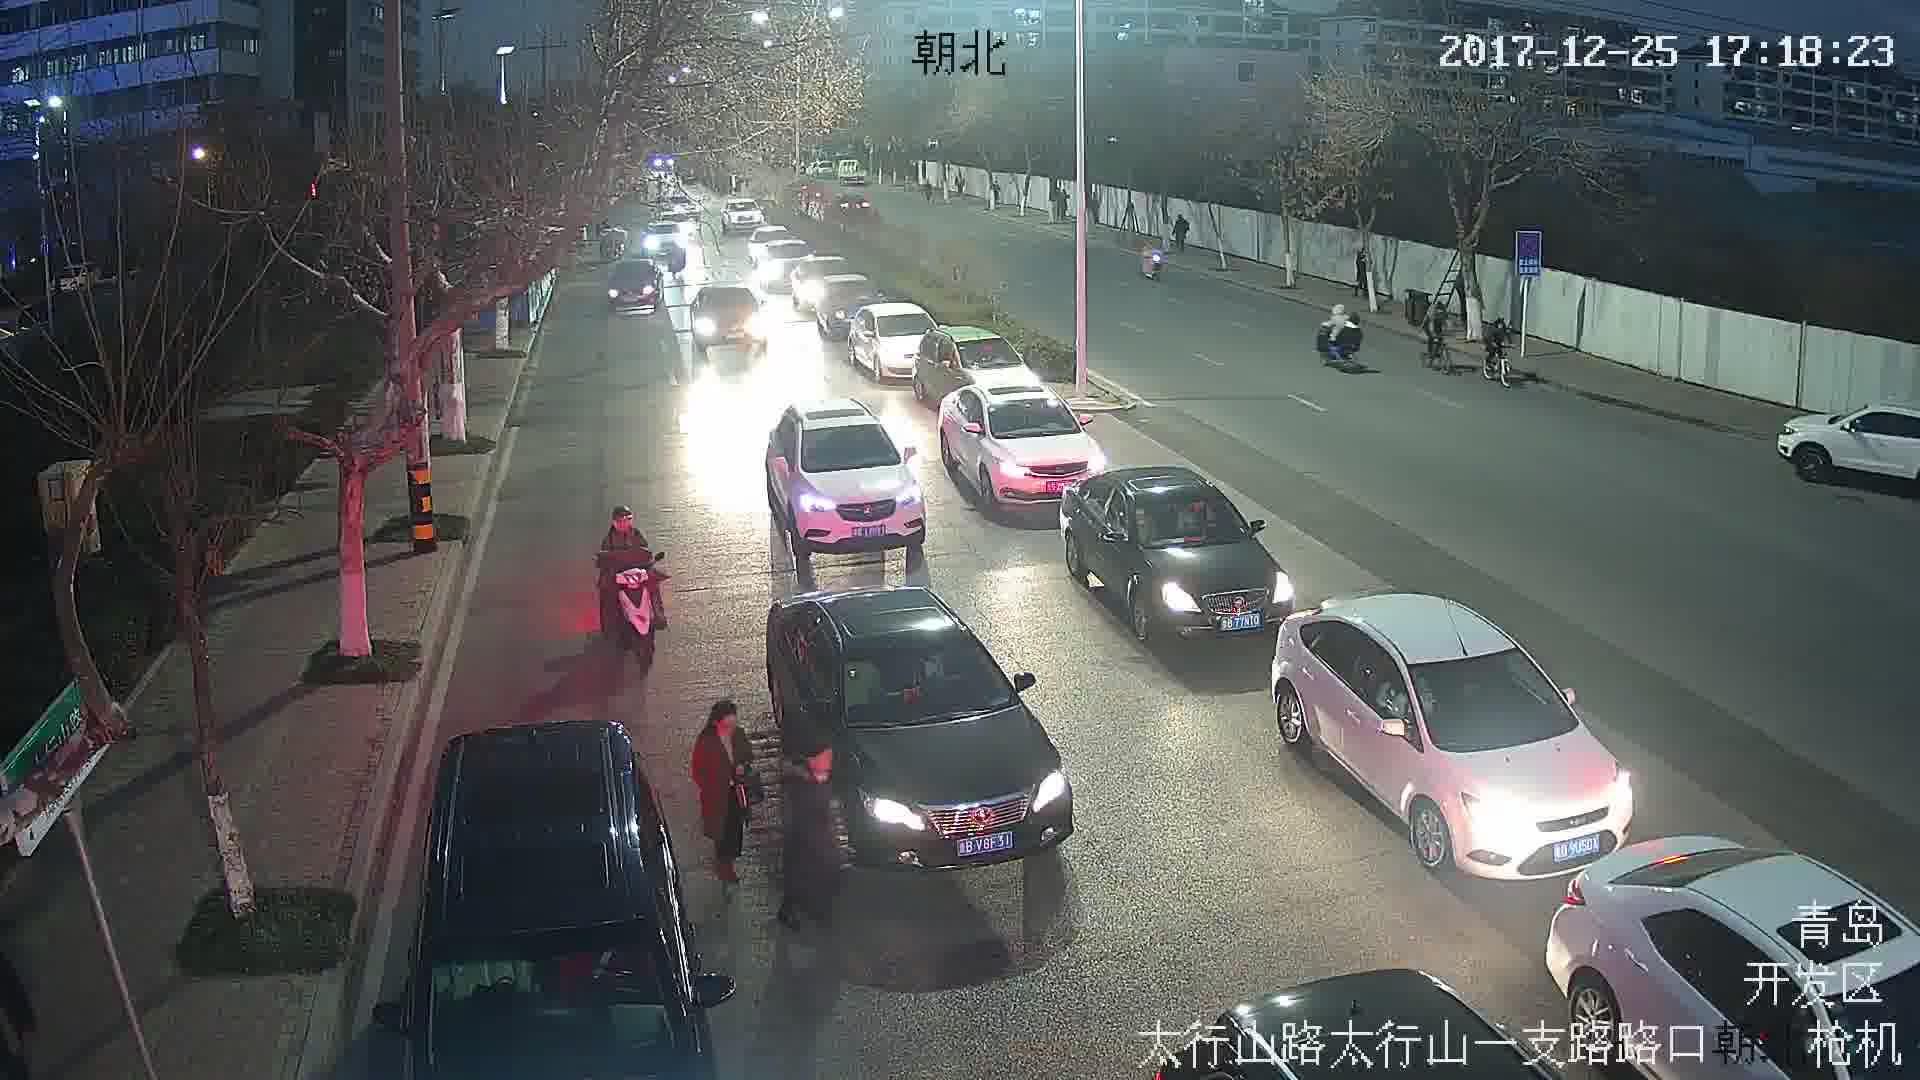car: (1267, 594, 1642, 877), (763, 591, 1077, 873), (1060, 463, 1292, 641), (759, 402, 927, 552), (942, 389, 1109, 510), (848, 303, 948, 380), (689, 287, 768, 349), (605, 262, 660, 313)
person: (695, 699, 756, 881), (599, 506, 662, 607), (1321, 295, 1362, 363), (1482, 321, 1510, 364), (1423, 309, 1450, 352)
